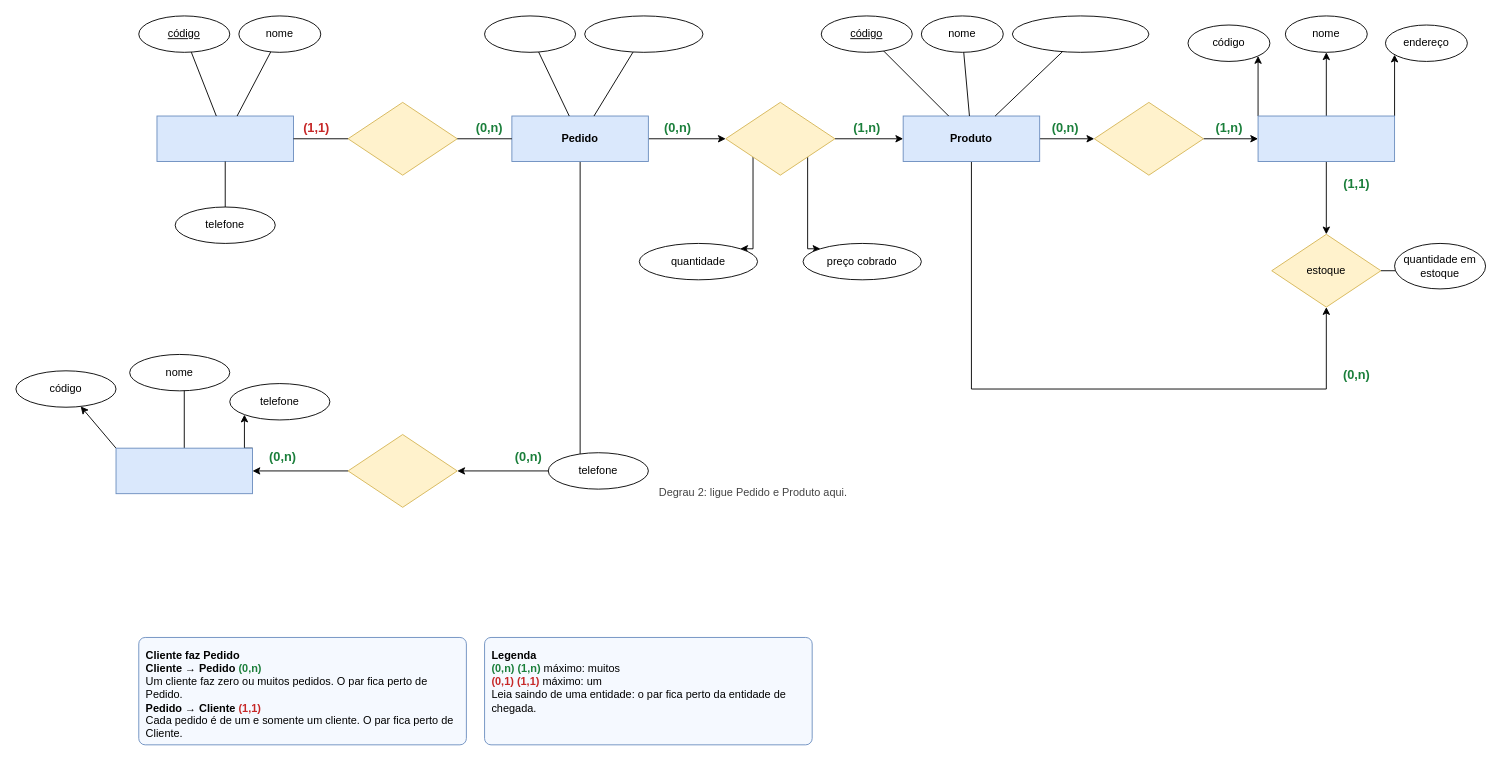
Image size: 1509x761. Some labels were removed from this diagram. The centre of each missing label's shape, as x and y in pixels:
Cliente: the point at 224,138
contém: the point at 780,138
data e hora: the point at 643,33
Entregador: the point at 184,470
está em: the point at 1148,138
faz: the point at 402,138
leva: the point at 402,470
número: the point at 530,33
preço de tabela: the point at 1080,33
Unidade: the point at 1326,138
